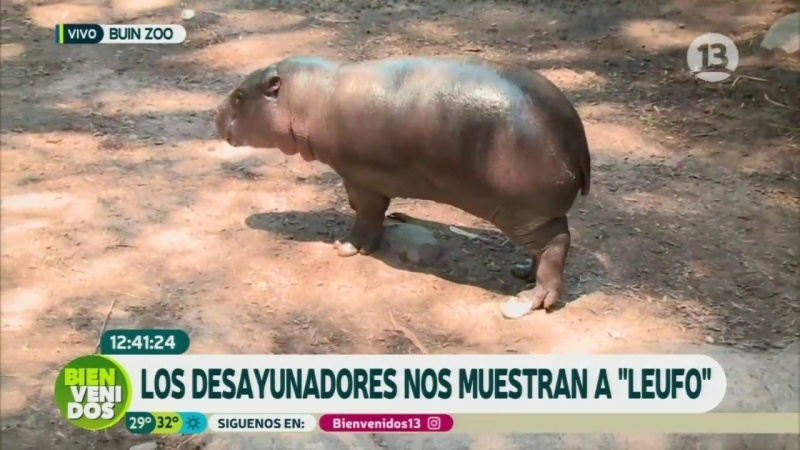hipopotamo: (202, 49, 610, 327)
